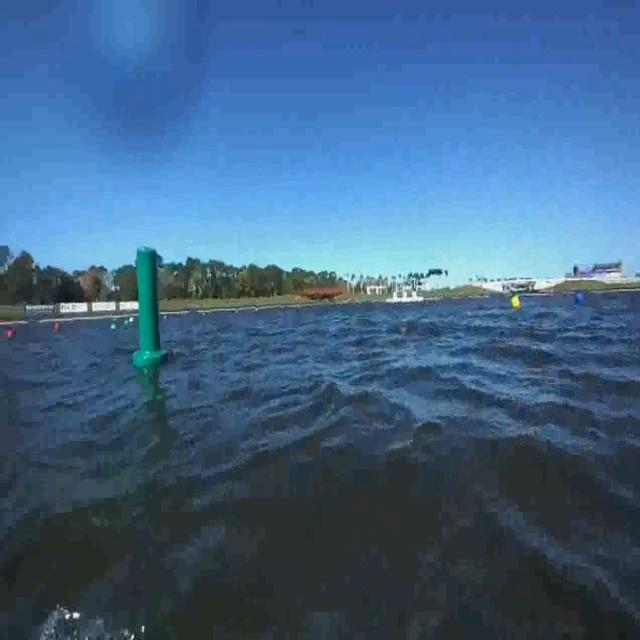blue-buoy: (574, 289, 585, 305)
green-column-buoy: (134, 244, 168, 368)
yellow-buoy: (512, 294, 522, 312)
